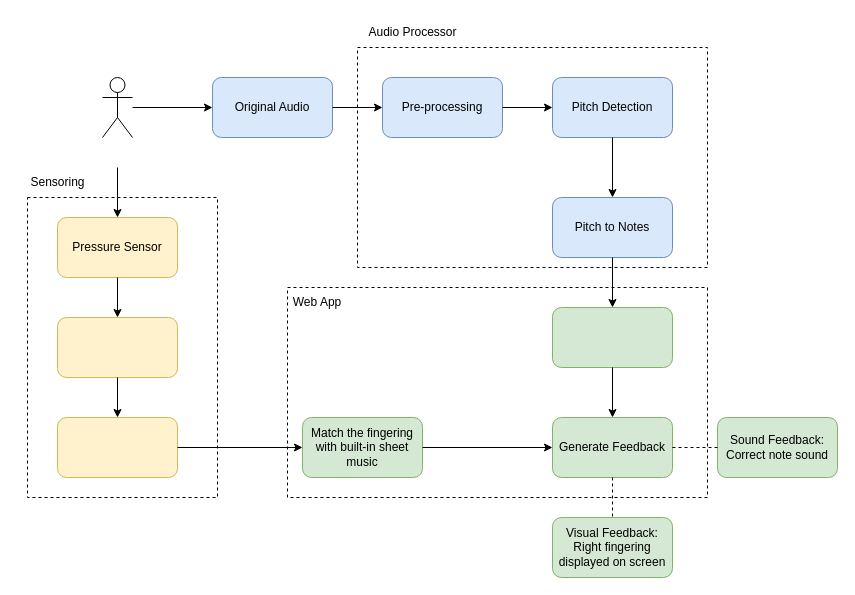
Some shapes in this 855 by 595 pixel diagram are drawn without their labels. Each missing label, with the box of its shape:
Arduino: (56, 316, 178, 378)
Fingering Information: (56, 416, 178, 478)
Match the input notes with built-in sheet music: (552, 306, 672, 368)
Saxophone Player: (102, 76, 132, 138)
